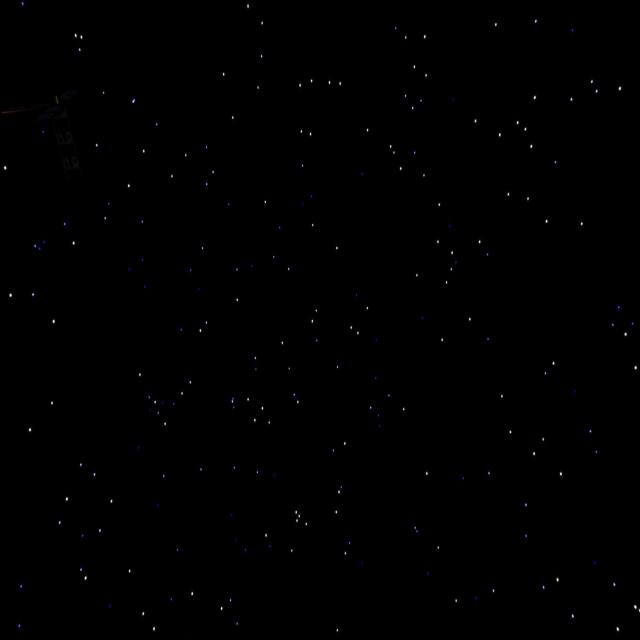satellite: (5, 71, 124, 182)
